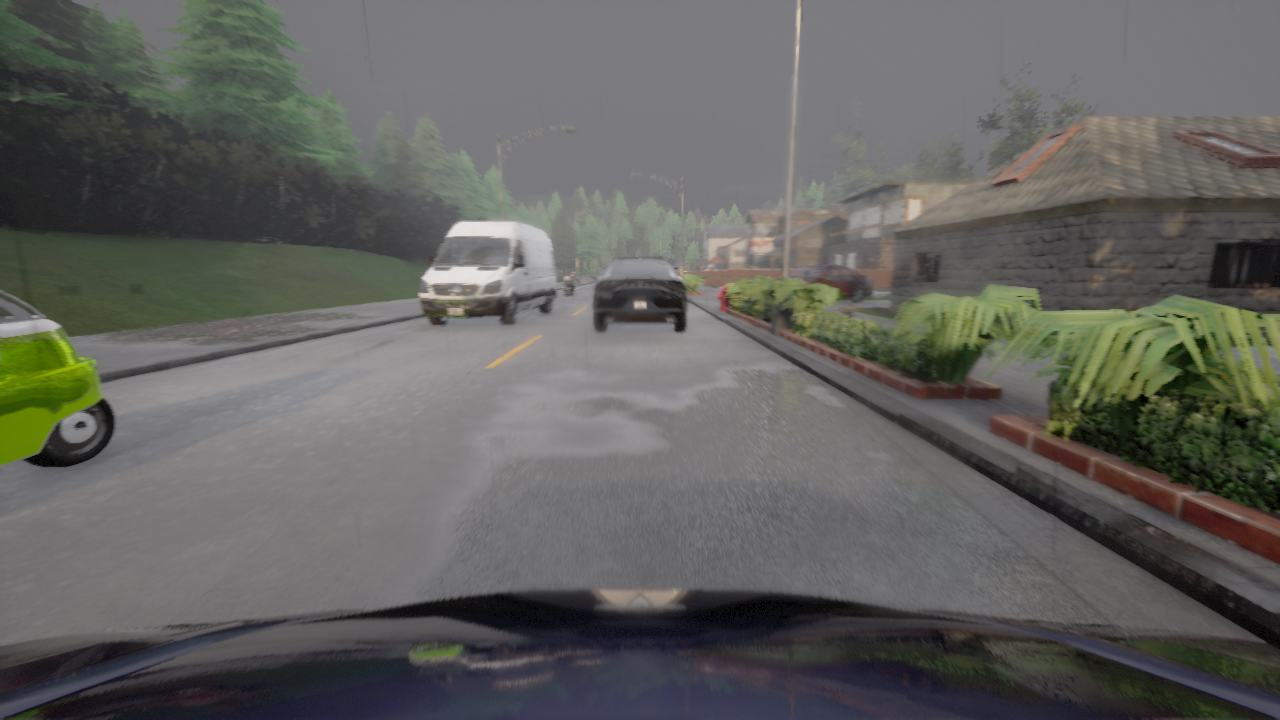cyclist: (0, 588, 1279, 719), (419, 221, 555, 325), (593, 254, 686, 331), (756, 265, 874, 302), (563, 272, 574, 295)
